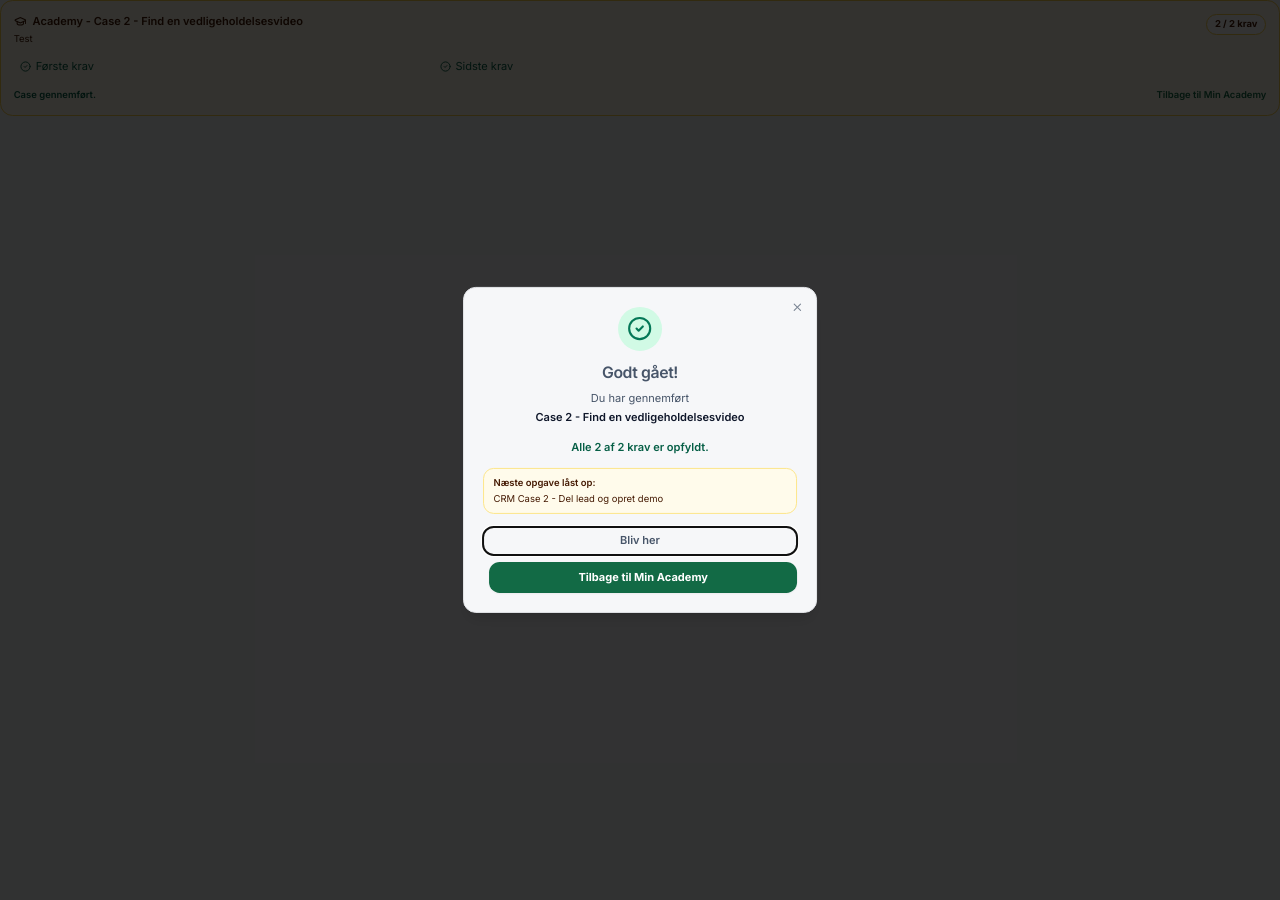
Scenario: Academy completion modal › opens only on a new completion transition and uses dynamic case metadata
This screenshot has width=1280, height=900.
Expected: the dialog shows "Godt gået!", [602,363,678,382]
Expected: the dialog shows "Case 2 - Find en vedligeholdelsesvideo", [535,410,745,424]
Click the button "Bliv her": (640, 541) [483,527,797,555]
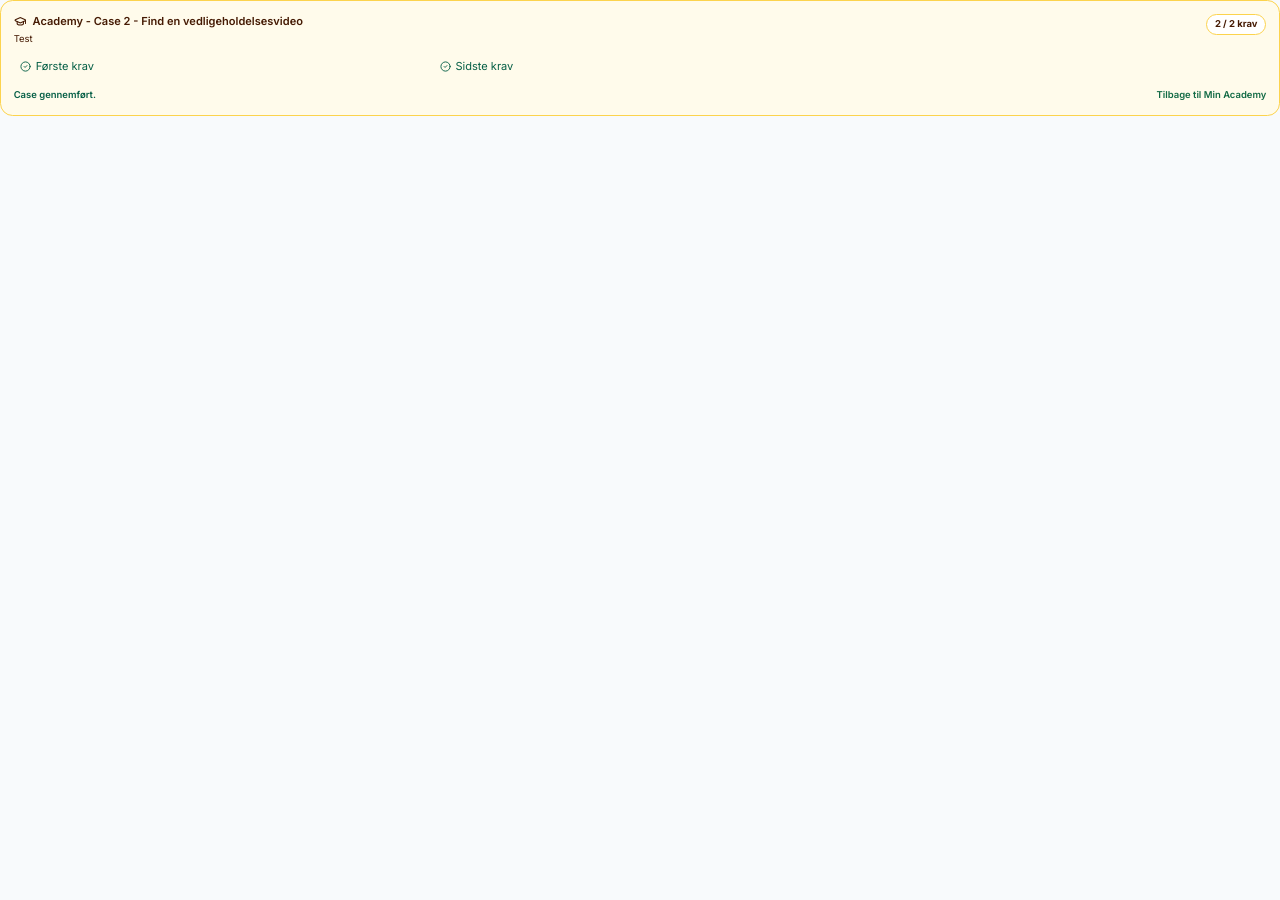
Expected: the dialog is gone
